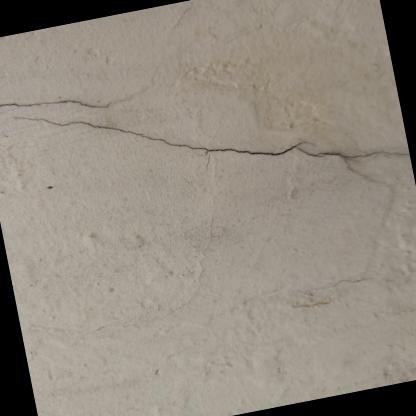crack: (13, 117, 316, 157), (296, 147, 409, 160), (0, 99, 110, 109)
